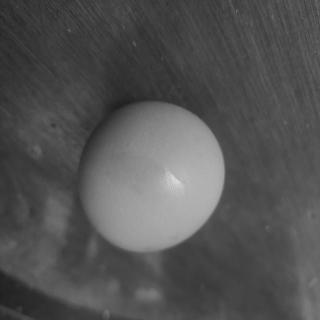Telur: (76, 97, 230, 257)
